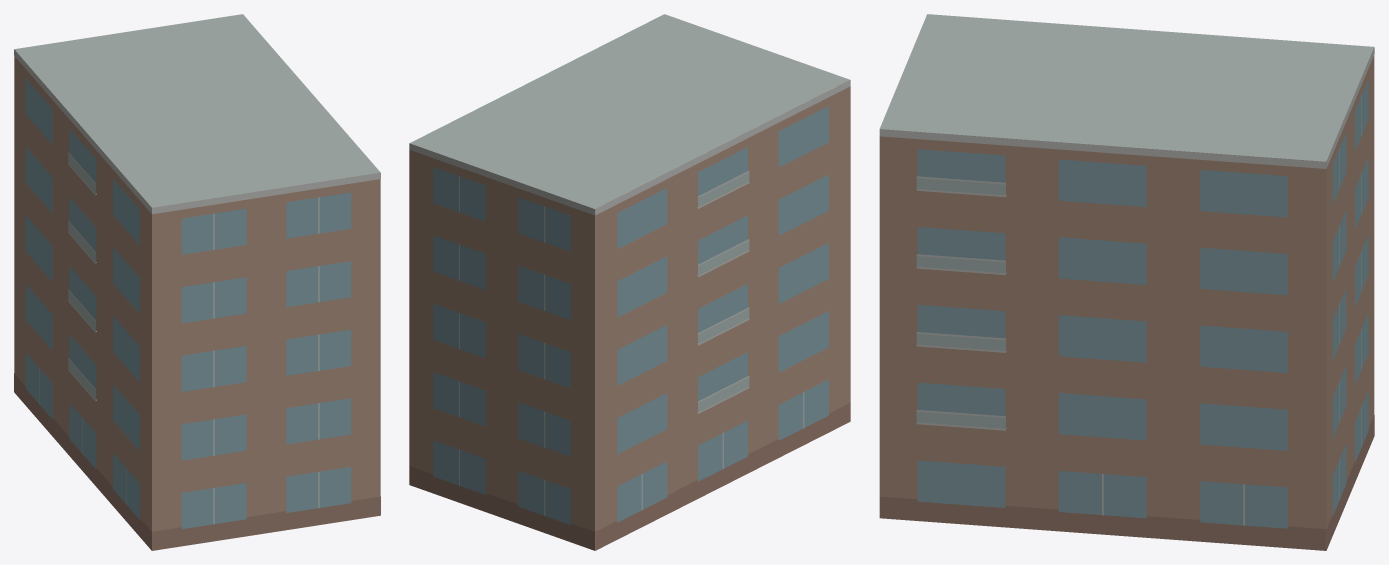
File: survey-upis-32998624.glb
The picture shows the model from 3 angles, left to right: view 1: azimuth 30°, elevation 25°; view 2: azimuth 150°, elevation 25°; view 3: azimuth 270°, elevation 25°; orthographic projection. The views are drawn at different scales.
Visible parts, largest first — view 1: survey-upis-32998624.tmp; view 2: survey-upis-32998624.tmp; view 3: survey-upis-32998624.tmp.
Boxes of the visible parts, bbox=[...] form: survey-upis-32998624.tmp: bbox=[14, 14, 380, 550]; survey-upis-32998624.tmp: bbox=[409, 14, 850, 550]; survey-upis-32998624.tmp: bbox=[879, 14, 1374, 550].
Size of the model in its own units: 10.64 by 13.05 by 15.06.
